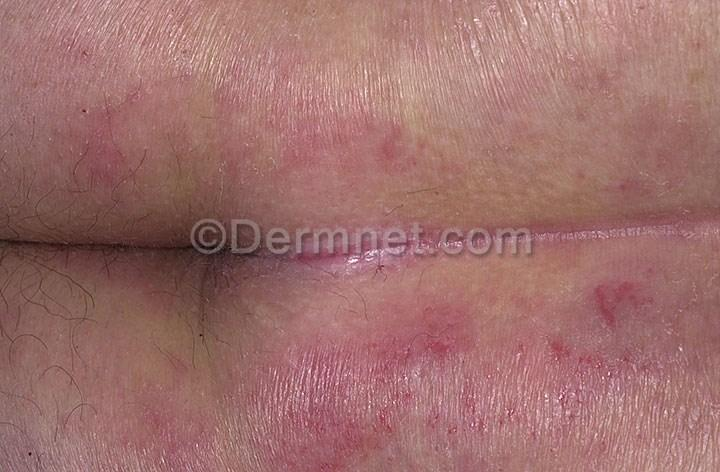Eczema: (196, 258, 521, 472), (173, 17, 484, 212), (484, 0, 719, 228), (525, 233, 720, 461), (3, 288, 196, 468), (2, 61, 172, 225)
